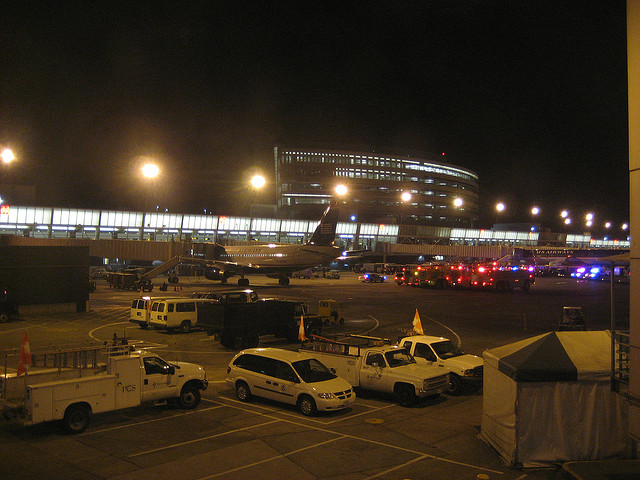car: (221, 341, 362, 421)
